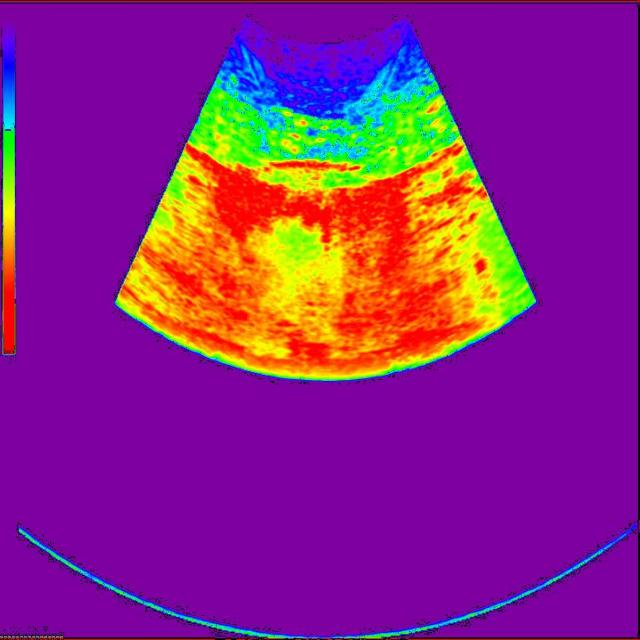lamb liver pre: (264, 110, 364, 165)
